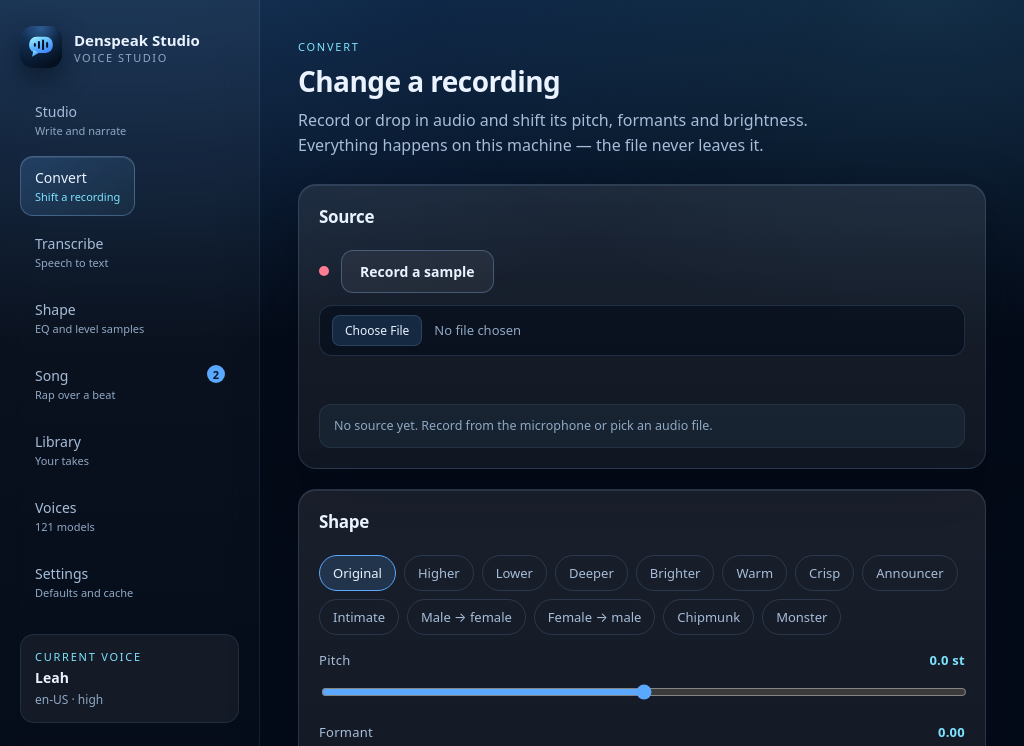
it: hand-off navigation › says a delete and a clear are under way while the store hangs
Click the button named "2 takes waiting for Song" at (216, 374), box [207,365,225,383]
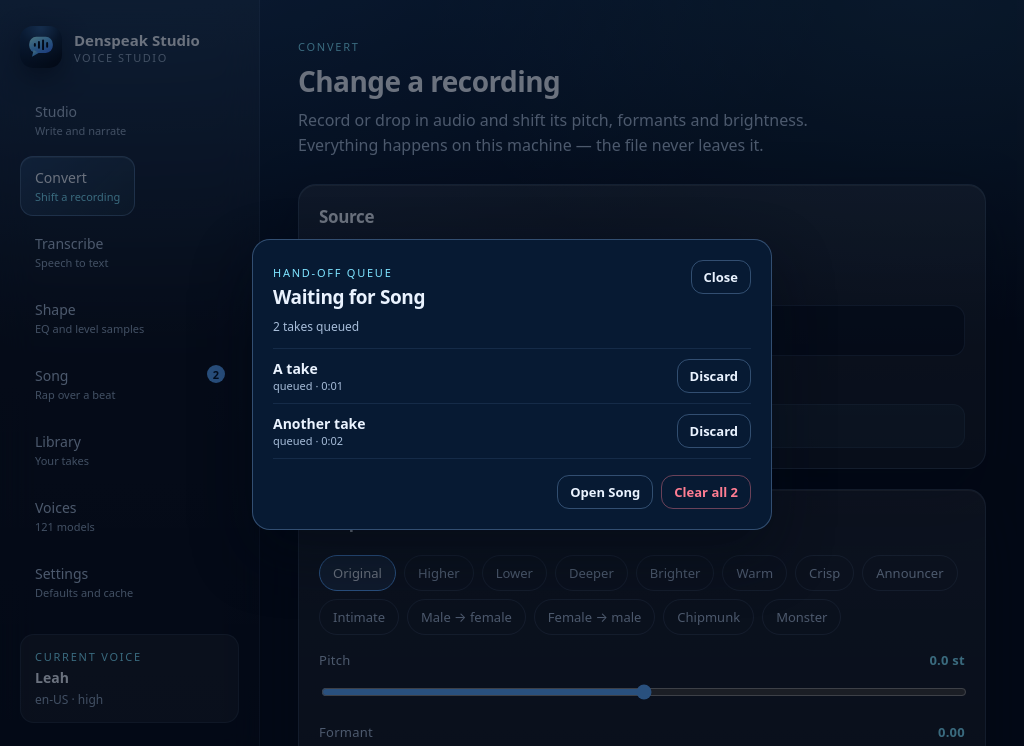
Click the button with aria-label "Discard A take" at (714, 376), box [676,358,751,392]
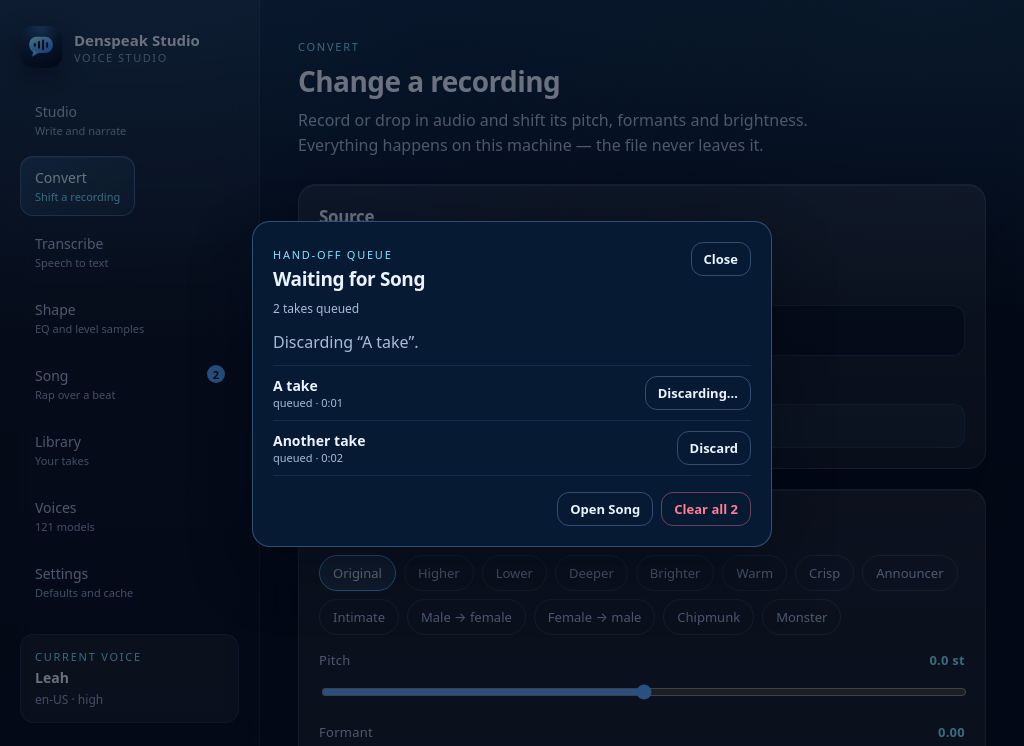
Expected: the button with aria-label "Discarding A take" is shown, [645,376,751,410]
Click the button "Clear all 2" at (706, 509), box [661,492,751,526]
Wait 50 ms
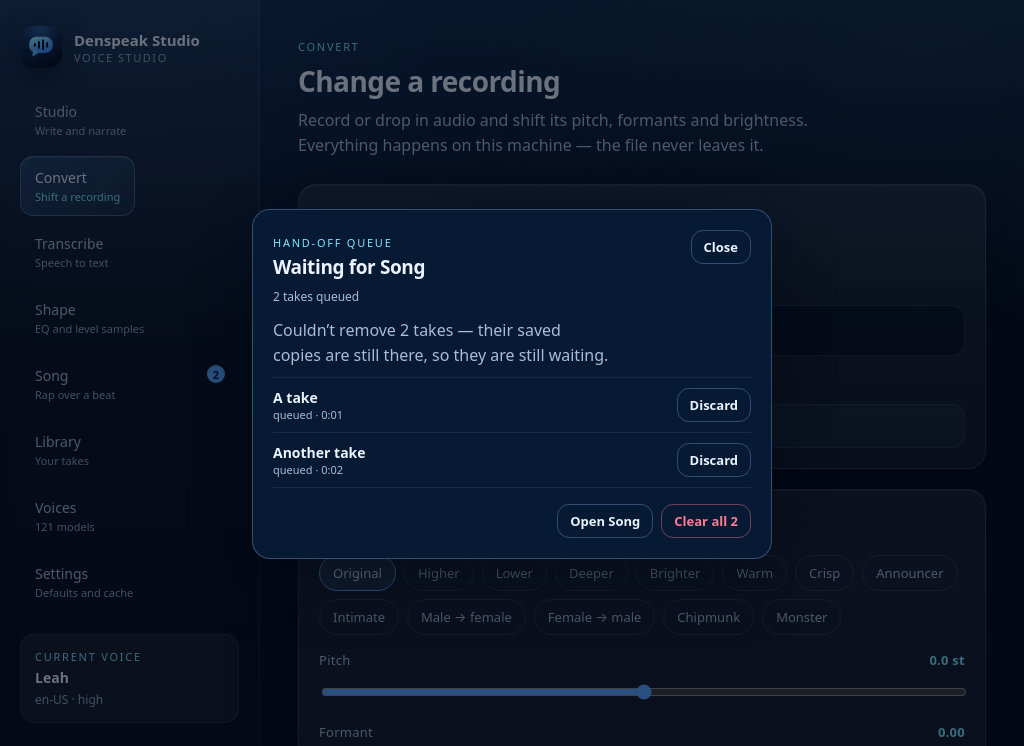
Expected: the button "Clear all 2" is shown, [661,504,751,538]
Expected: the text "Couldn’t remove 2 takes" is shown, [273,319,608,366]
Expected: the button with aria-label "Discard A take" is shown, [676,388,751,422]
